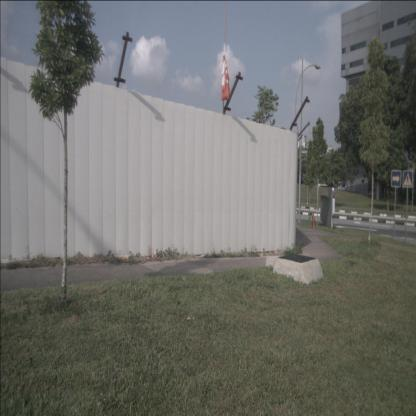movable_object-trafficcone: (312, 211, 316, 228)
